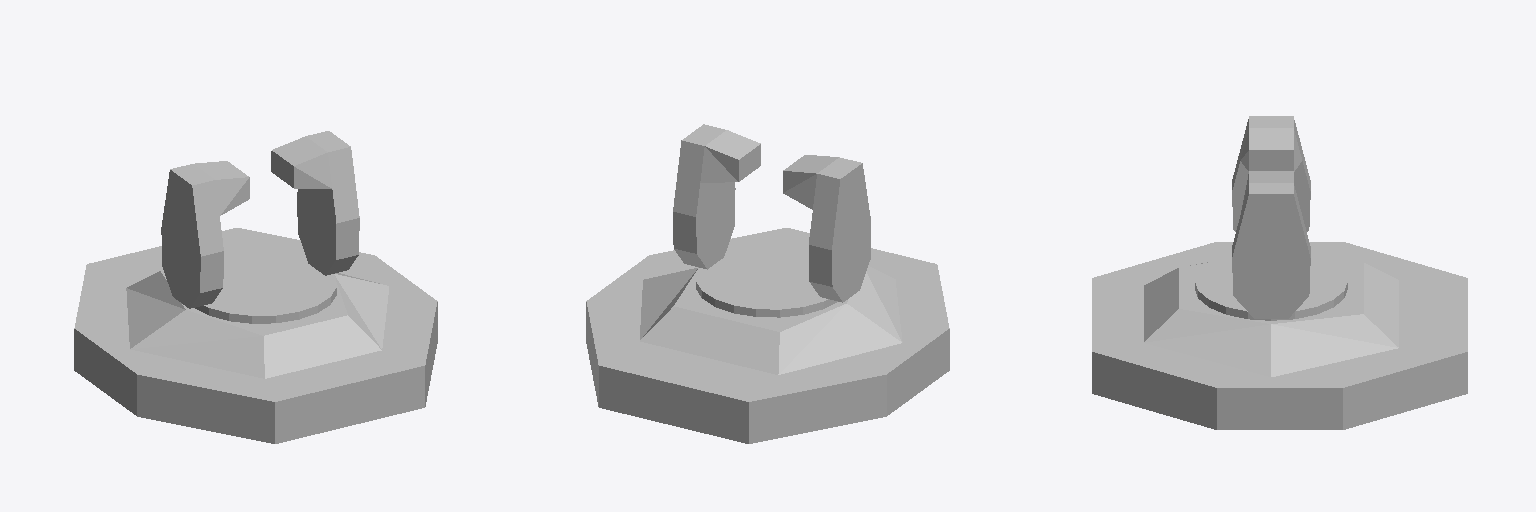
Rendered from CIWSTurret.obj.
3 renders of one model, left to right at view 1: azimuth 30°, elevation 25°; view 2: azimuth 150°, elevation 25°; view 3: azimuth 270°, elevation 25°, orthographic.
Parts seen in each view (by area): view 1: default; view 2: default; view 3: default.
Part boxes in pixels (bbox=[...]): default: bbox=[74, 131, 437, 443]; default: bbox=[586, 124, 949, 443]; default: bbox=[1092, 116, 1467, 429].
Size of the model in its own units: 8.03 by 5.16 by 8.73.